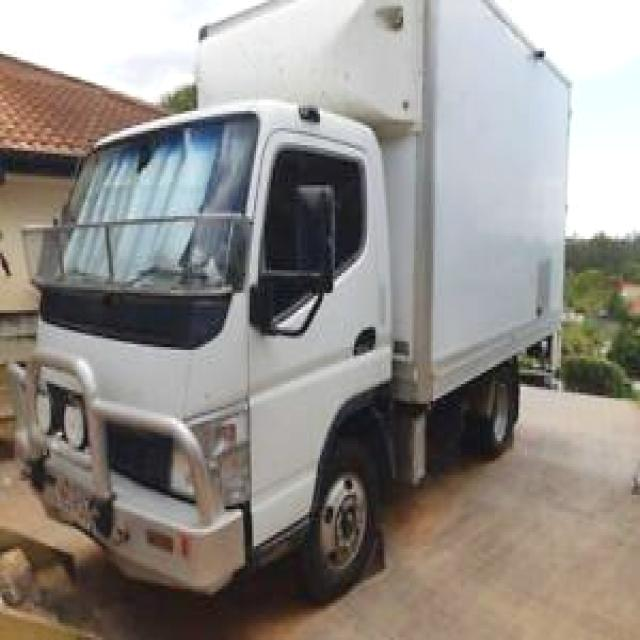truck: (8, 1, 569, 590)
